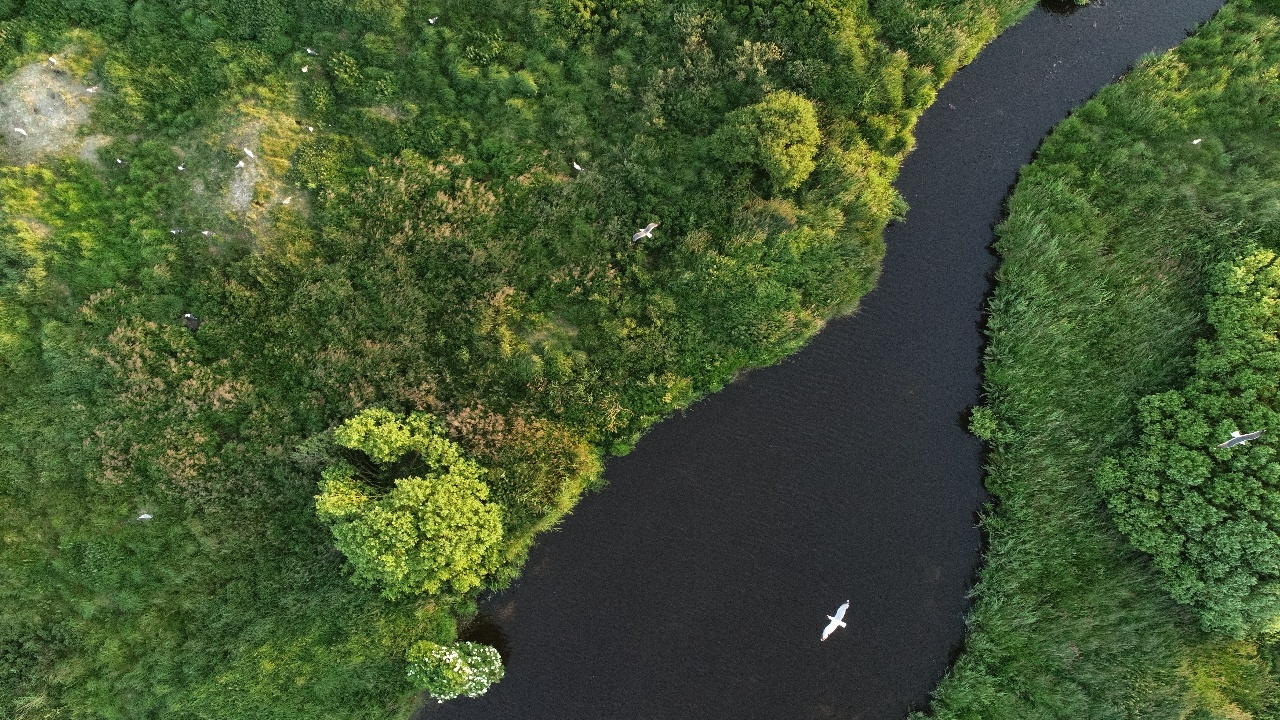Bird: (1211, 414, 1266, 462), (812, 593, 857, 643), (292, 57, 324, 85), (296, 37, 328, 65), (418, 6, 450, 34), (300, 112, 332, 140), (130, 503, 161, 531), (176, 302, 207, 330), (194, 219, 225, 247), (160, 217, 191, 245), (270, 189, 301, 217), (168, 156, 199, 184), (106, 149, 137, 177), (75, 77, 106, 105), (35, 47, 66, 75), (291, 56, 322, 84), (563, 155, 594, 183), (631, 219, 662, 247), (1185, 127, 1216, 155), (8, 117, 39, 145), (233, 138, 264, 165), (225, 154, 252, 180)
